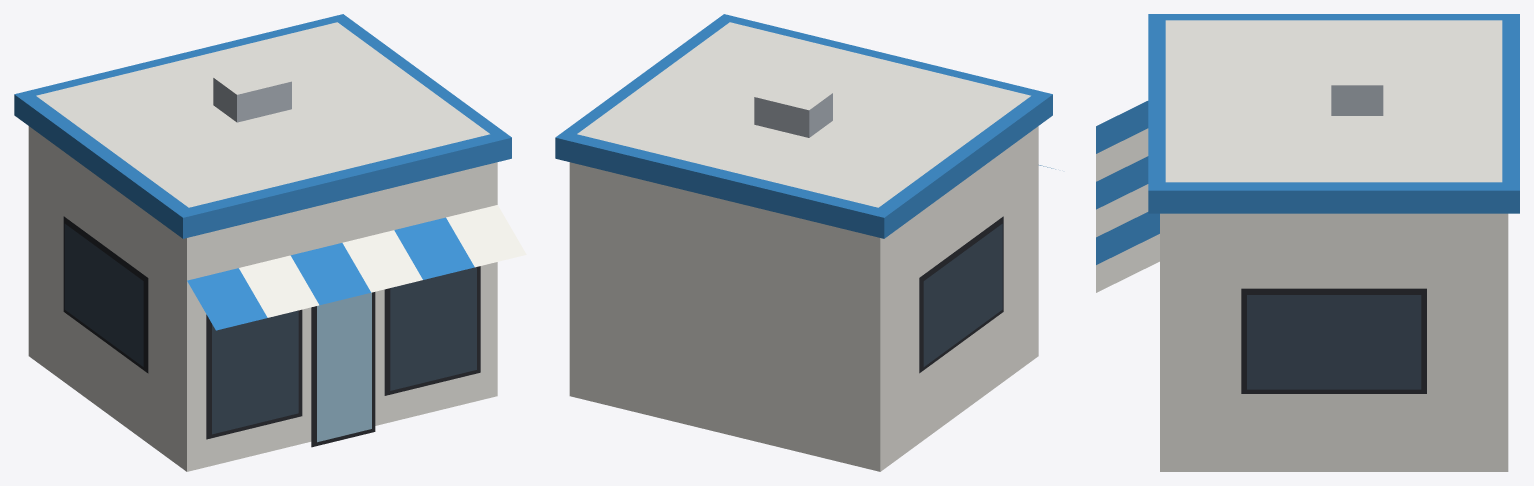
Rendered from B_ShopBlue.fbx.
3 views of the same model, side by side, from view 1: azimuth 30°, elevation 25°; view 2: azimuth 150°, elevation 25°; view 3: azimuth 270°, elevation 25° (orthographic). The views are drawn at different scales.
Visible parts, largest first — view 1: B_ShopBlue.001; view 2: B_ShopBlue.001; view 3: B_ShopBlue.001.
Part boxes in pixels (box(x1,y1,x2,y2)): B_ShopBlue.001: box(14, 14, 526, 471); B_ShopBlue.001: box(555, 14, 1055, 471); B_ShopBlue.001: box(1096, 14, 1519, 471).
Size of the model in its own units: 3.6 by 3.07 by 3.65.
